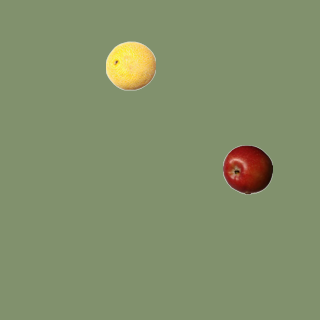Apple Braeburn: (222, 144, 272, 194)
Cantaloupe 1: (105, 40, 155, 90)
